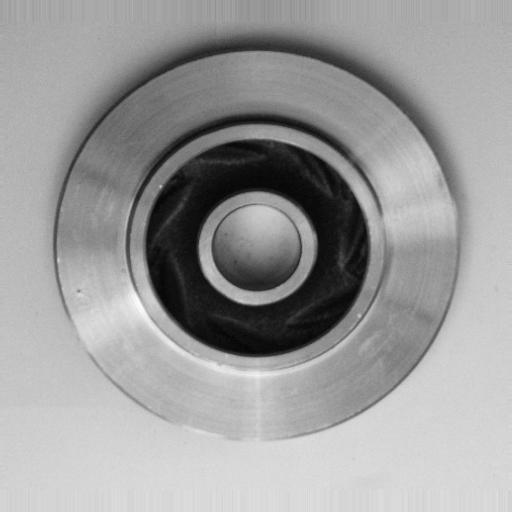scratch: (169, 406, 264, 459)
unpolished_casting: (53, 48, 466, 450)
